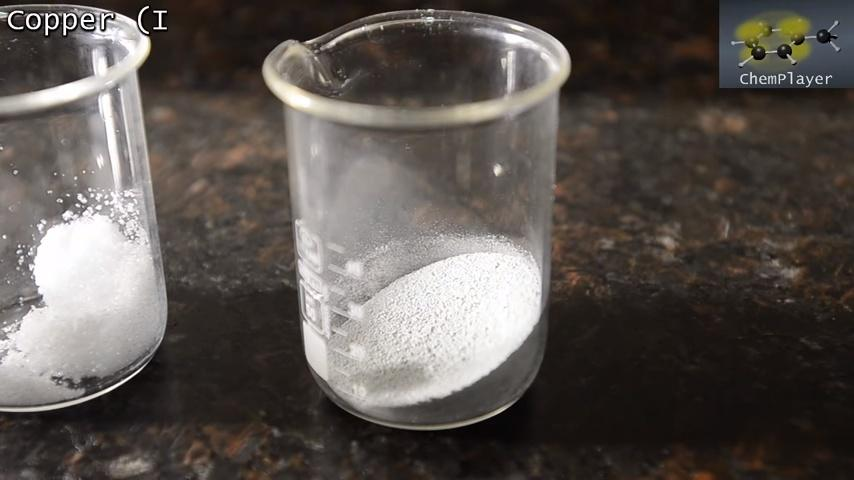Beaker: (263, 11, 555, 422), (12, 4, 174, 423)
